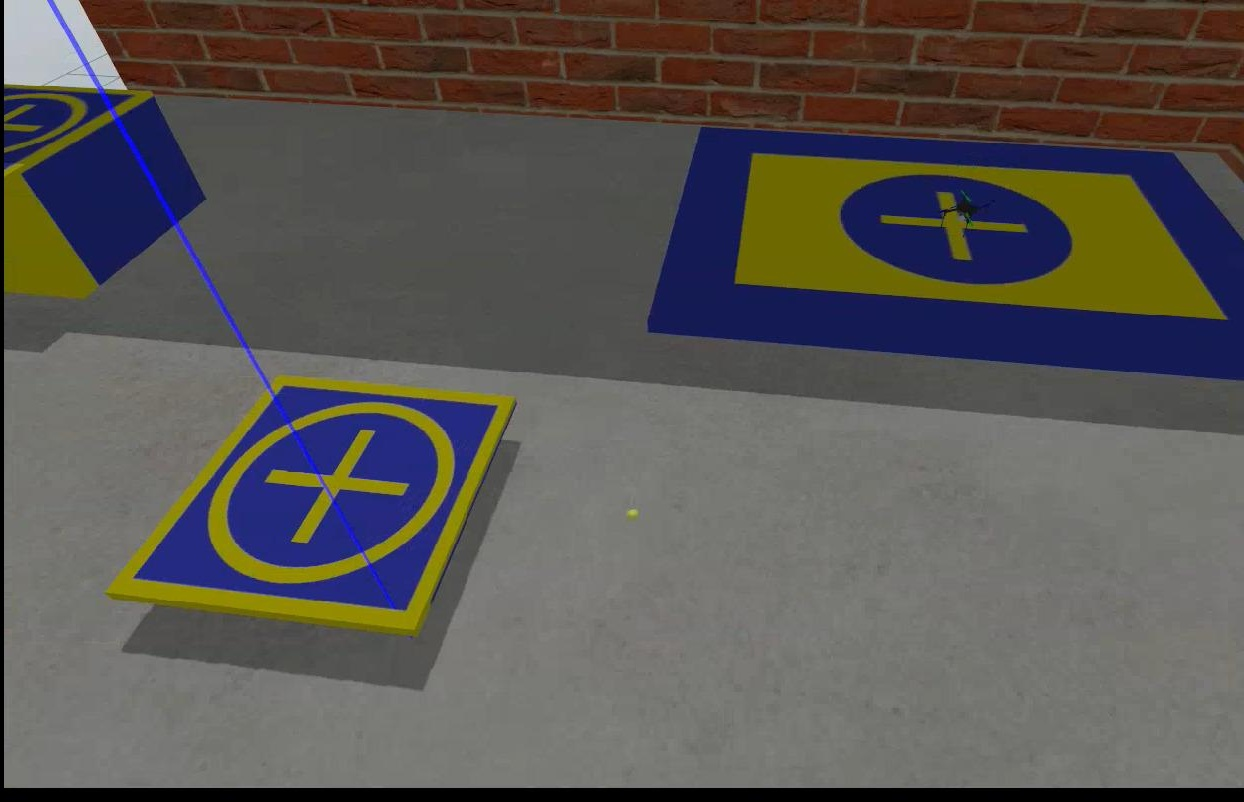large_base: (650, 125, 1242, 378)
small_base: (104, 374, 515, 630), (0, 72, 153, 173)
